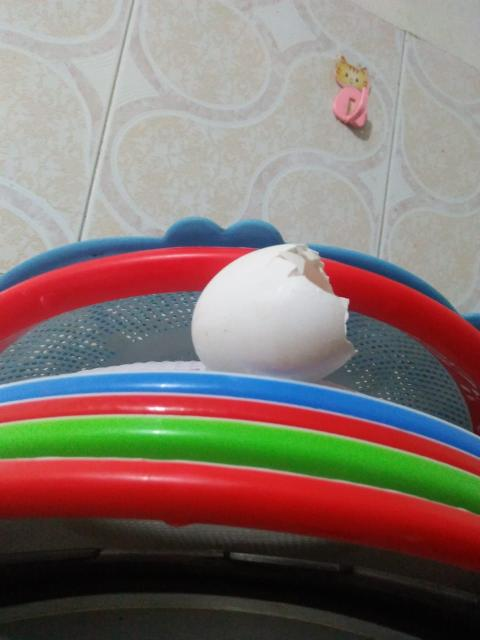Roto: (190, 242, 356, 382)
